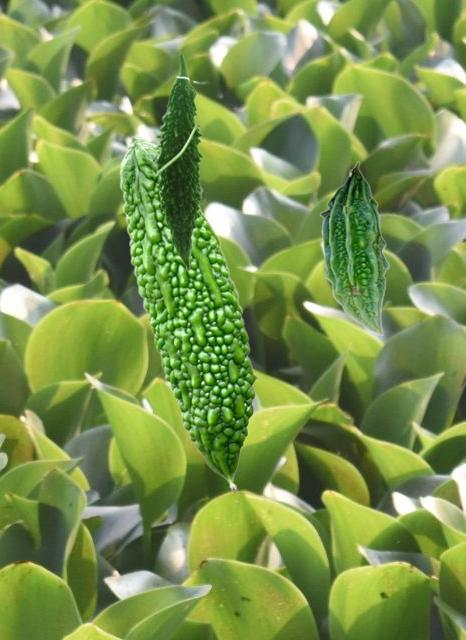ampalaya: (117, 134, 261, 494), (151, 51, 210, 273), (319, 160, 390, 336)
